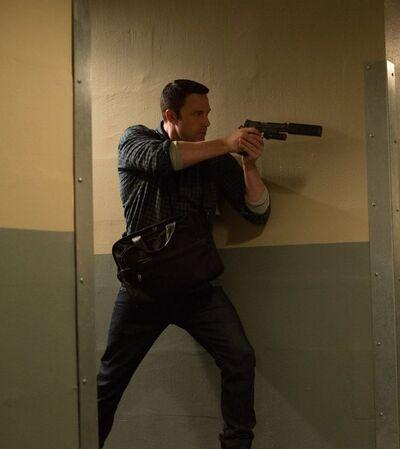Gun: (238, 121, 324, 157)
